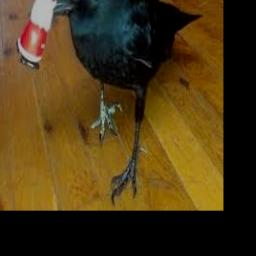Crow: (39, 0, 203, 204)
